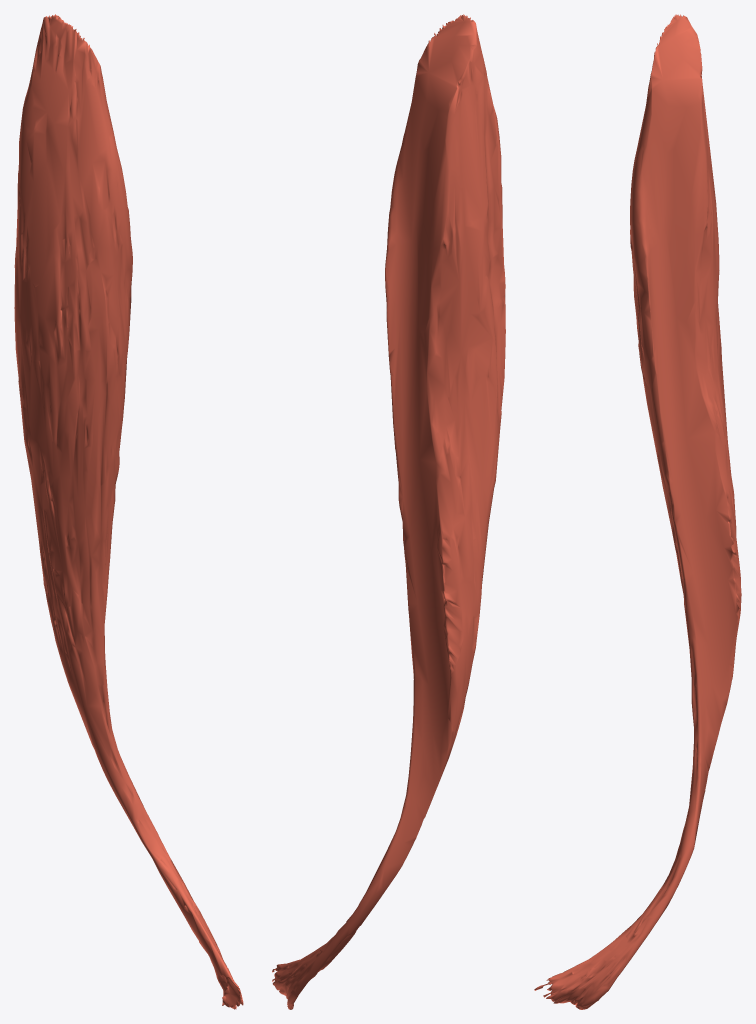
Rendered from tibialis-anterior.glb.
3 views of the same model, side by side, from view 1: azimuth 30°, elevation 25°; view 2: azimuth 210°, elevation 25°; view 3: azimuth 270°, elevation 25° (orthographic). The views are drawn at different scales.
Visible parts, largest first — view 1: Tibialis anterior muscle.r; view 2: Tibialis anterior muscle.r; view 3: Tibialis anterior muscle.r.
Part boxes in pixels (x1=…): Tibialis anterior muscle.r: x1=14, y1=14, x2=243, y2=1009; Tibialis anterior muscle.r: x1=272, y1=14, x2=505, y2=1009; Tibialis anterior muscle.r: x1=534, y1=14, x2=741, y2=1009.
Bounding box in the file's own units: 0.0609 × 0.3688 × 0.0736.
